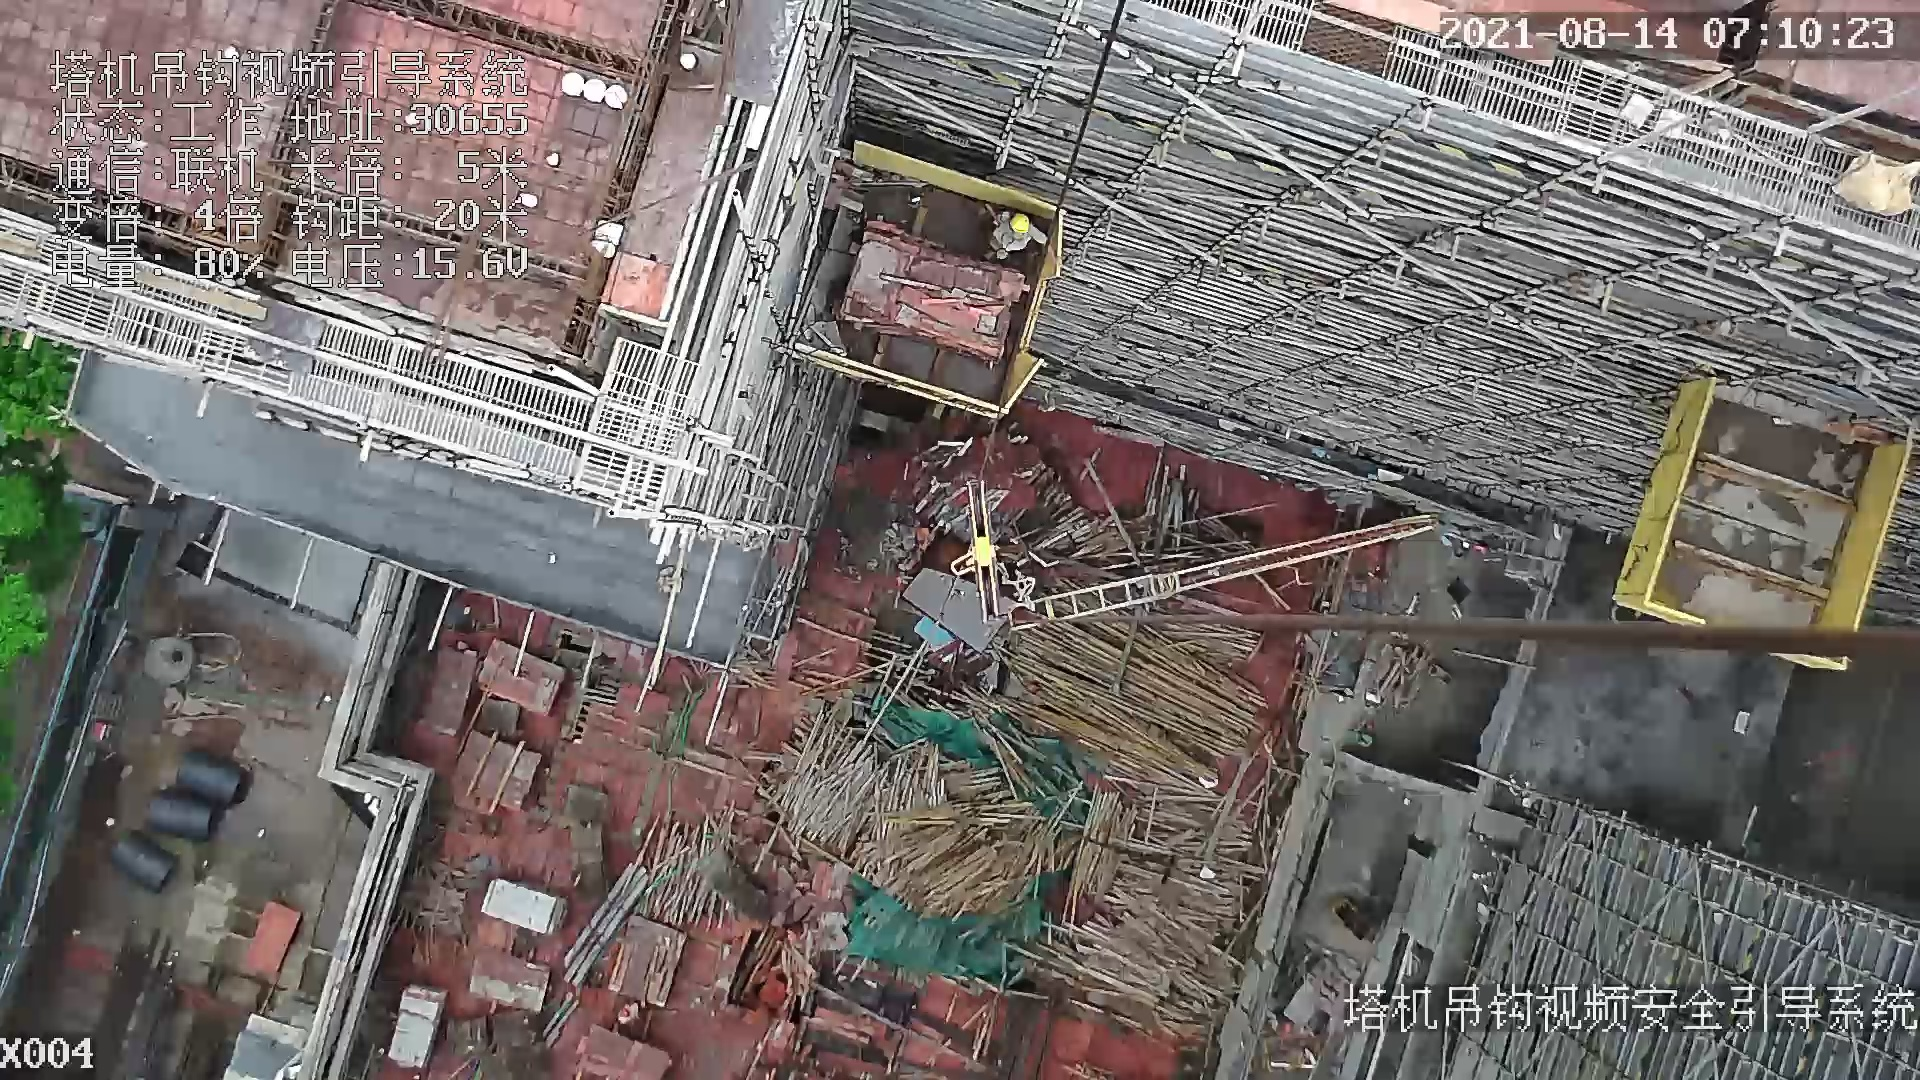helmet: (1010, 213, 1030, 233), (620, 1008, 631, 1018)
hook: (938, 468, 1009, 630)
person: (988, 204, 1053, 268), (617, 1000, 643, 1028)
